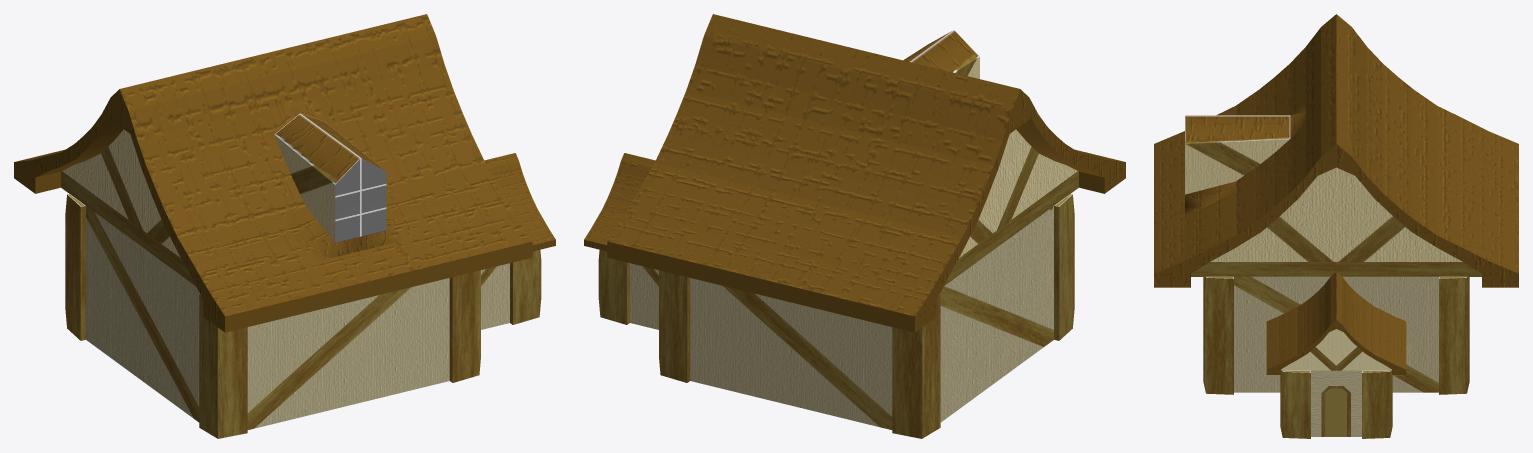
File: LargeHouse.fbx
3 renders of one model, left to right at view 1: azimuth 30°, elevation 25°; view 2: azimuth 150°, elevation 25°; view 3: azimuth 270°, elevation 25°, orthographic. The views are drawn at different scales.
Visible parts, largest first — view 1: BigRoof, HouseBase, SmallRoof; view 2: BigRoof, HouseBase, SmallRoof; view 3: BigRoof, HouseBase, SmallRoof.
Part boxes in pixels (<box>): BigRoof: <box>14,14,532,332</box>; HouseBase: <box>65,193,541,438</box>; SmallRoof: <box>484,153,555,251</box>; BigRoof: <box>607,14,1125,332</box>; HouseBase: <box>598,193,1074,438</box>; SmallRoof: <box>584,153,655,251</box>; BigRoof: <box>1154,14,1518,287</box>; HouseBase: <box>1203,276,1469,438</box>; SmallRoof: <box>1266,272,1406,374</box>.
Bounding box in the file's own units: 15.46 × 11.2 × 14.26.
3 materials, 3 textured.
